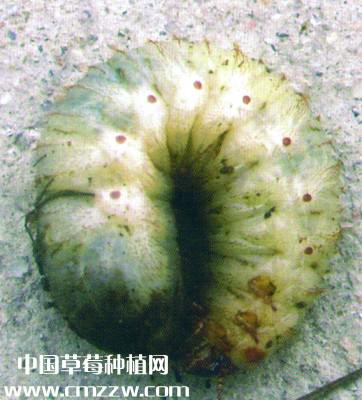grub: (38, 34, 334, 350)
